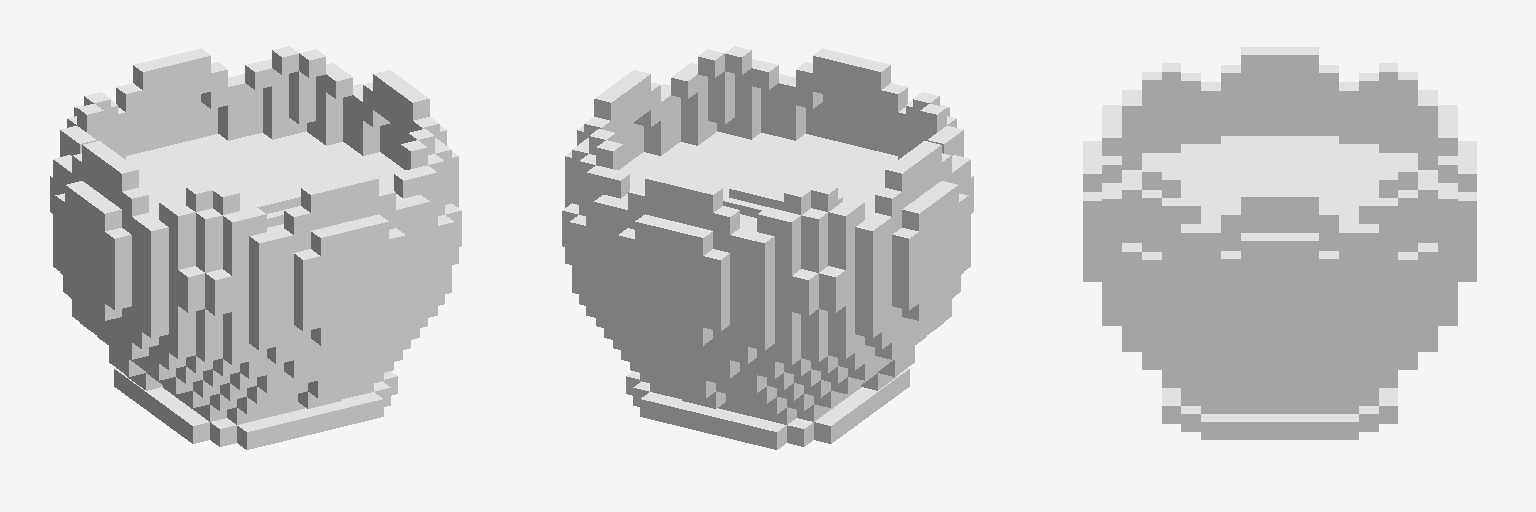
Rendered from obj.GlassInFish.obj.
3 renders of one model, left to right at view 1: azimuth 30°, elevation 25°; view 2: azimuth 150°, elevation 25°; view 3: azimuth 270°, elevation 25°, orthographic.
Parts seen in each view (by area): view 1: object 1; view 2: object 1; view 3: object 1.
Part boxes in pixels (x1,y1,x2,y2): object 1: (50,46,461,449); object 1: (562,46,973,449); object 1: (1083,47,1476,439).
Bounding box in the file's own units: 4 × 3 × 4.